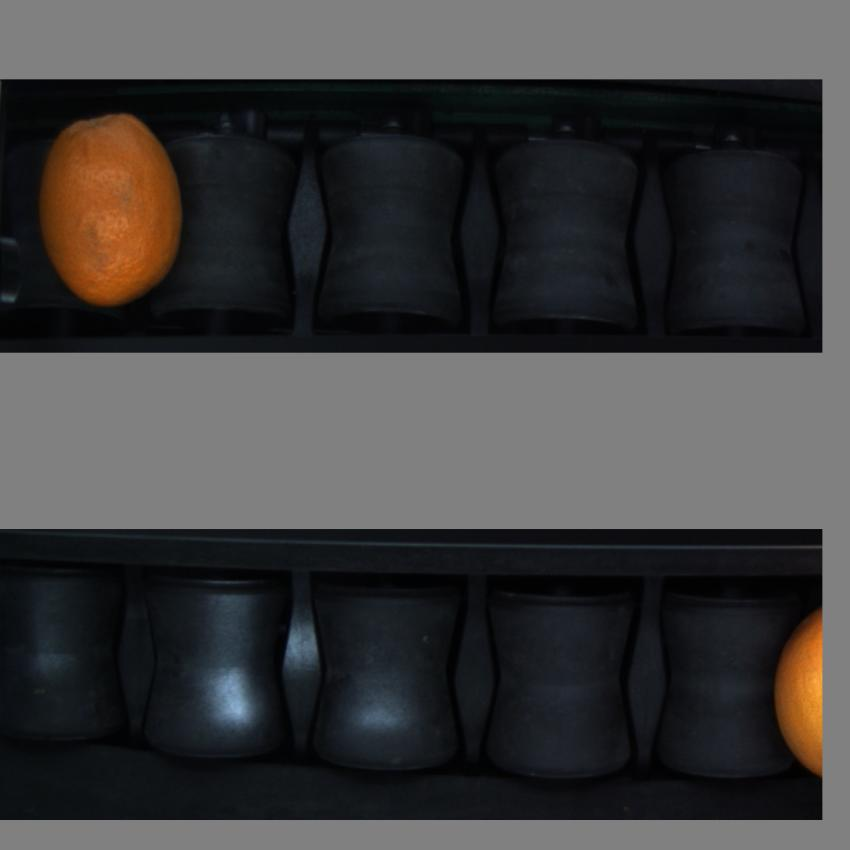Buen estado: (764, 597, 822, 795)
Mal estado: (30, 103, 198, 320)
